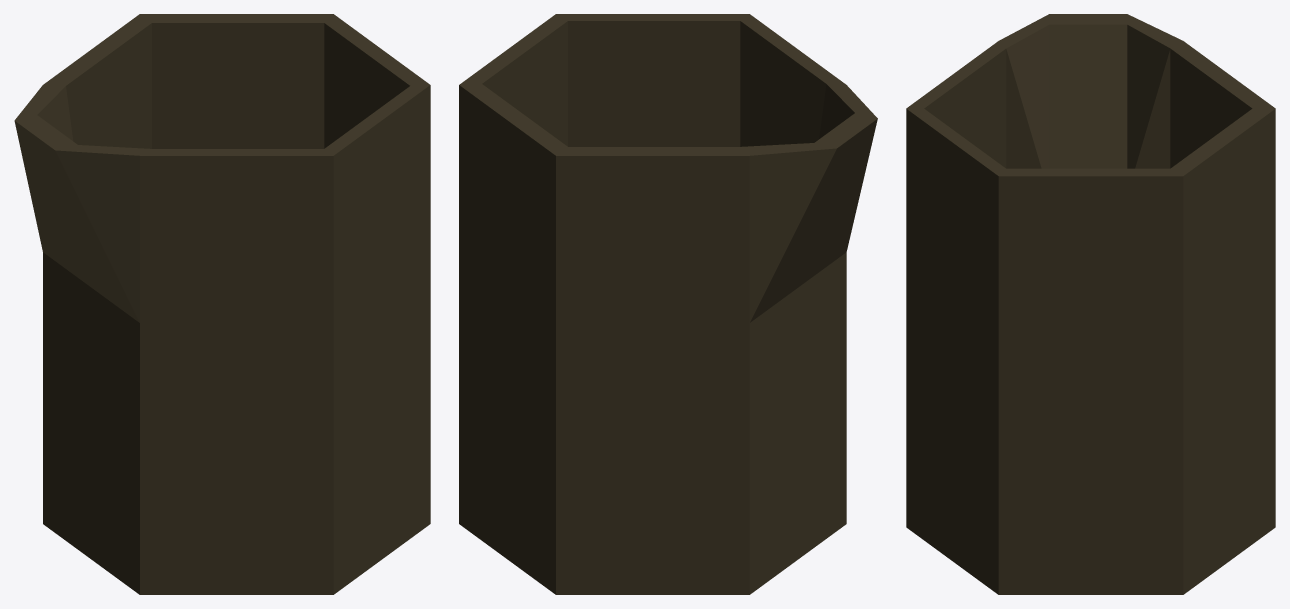
File: ITMI_STUFF_MUG_01.OBJ
3 views of the same model, side by side, from view 1: azimuth 30°, elevation 25°; view 2: azimuth 150°, elevation 25°; view 3: azimuth 270°, elevation 25° (orthographic). The views are drawn at different scales.
Parts seen in each view (by area): view 1: ITMI_STUFF_MUG_01; view 2: ITMI_STUFF_MUG_01; view 3: ITMI_STUFF_MUG_01.
Boxes of the visible parts, bbox=[...] form: ITMI_STUFF_MUG_01: bbox=[14, 14, 430, 594]; ITMI_STUFF_MUG_01: bbox=[459, 14, 877, 594]; ITMI_STUFF_MUG_01: bbox=[906, 14, 1275, 594].
Size of the model in its own units: 0.271 by 0.3263 by 0.261.
